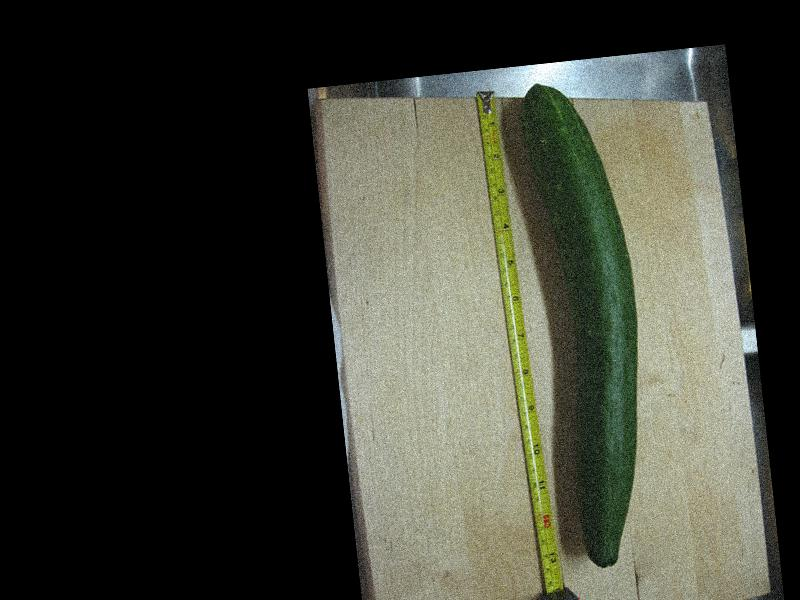Cucumber: (517, 75, 662, 571)
